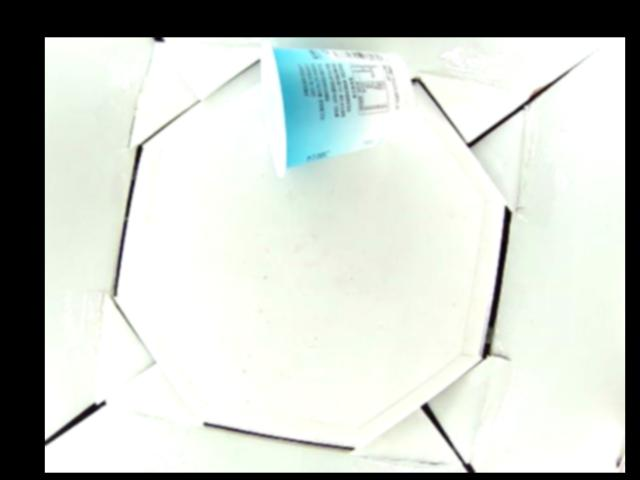Cup: (259, 40, 409, 177)
